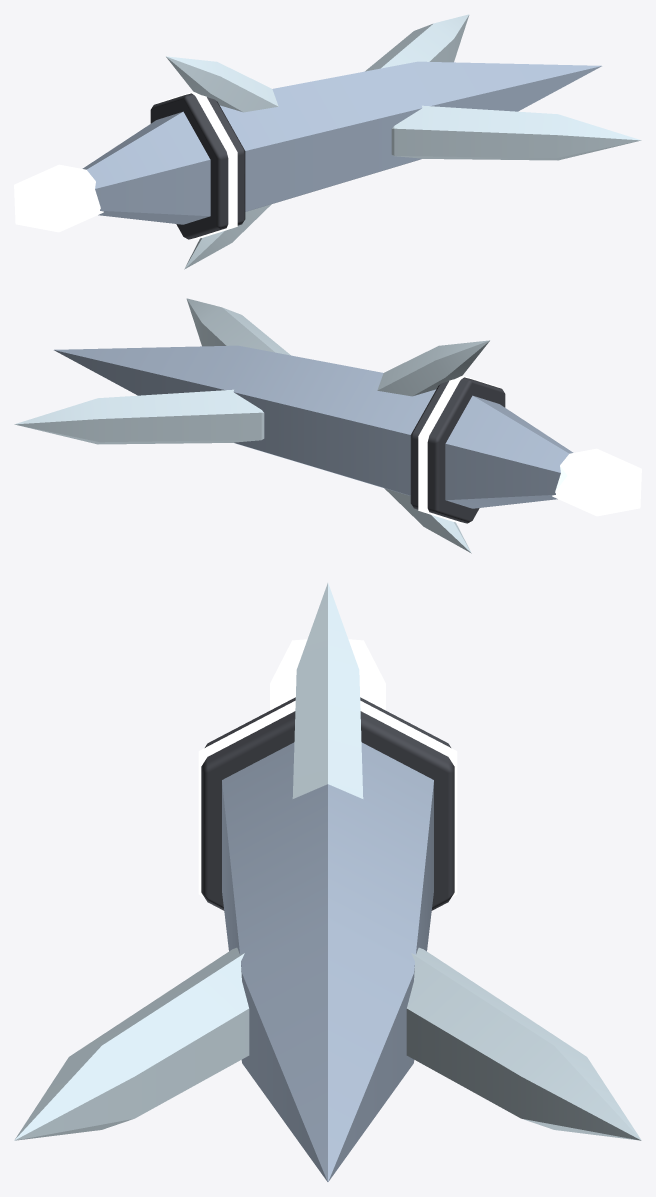
Rendered from crystal_medium.glb.
3 renders of one model, top to bottom at view 1: azimuth 30°, elevation 25°; view 2: azimuth 150°, elevation 25°; view 3: azimuth 270°, elevation 25°, orthographic. The views are drawn at different scales.
Visible parts, largest first — view 1: crystal_medium; view 2: crystal_medium; view 3: crystal_medium.
Boxes of the visible parts, <box> form: crystal_medium: <box>14,14,641,269</box>; crystal_medium: <box>14,298,641,553</box>; crystal_medium: <box>14,583,641,1181</box>.
Size of the model in its own units: 1.5 by 0.5319 by 0.7627.
